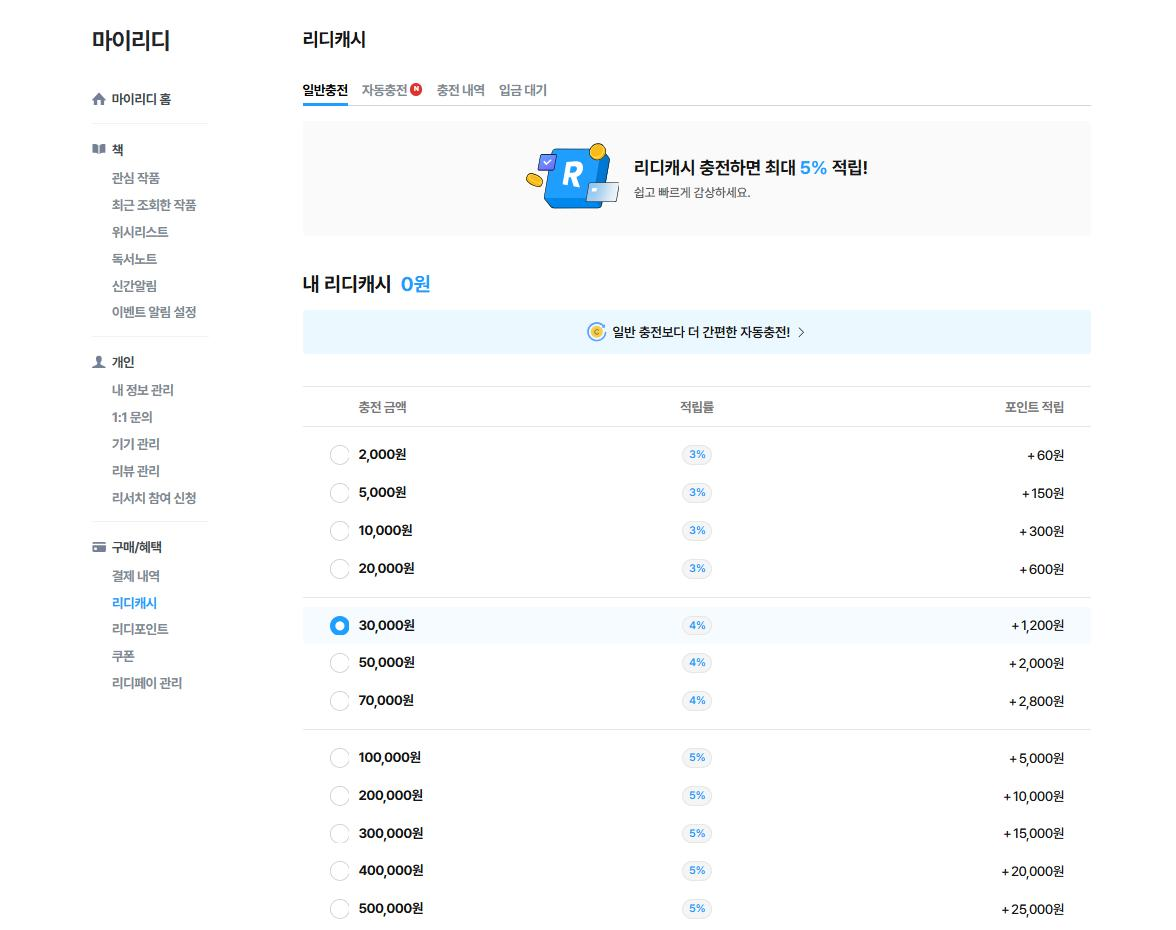button: (81, 80, 188, 115), (104, 296, 203, 326), (100, 192, 201, 217), (105, 487, 206, 510), (296, 70, 353, 110), (360, 74, 426, 107), (100, 163, 171, 189), (431, 73, 492, 103), (100, 221, 180, 243), (99, 247, 169, 270), (107, 376, 180, 398), (499, 73, 552, 102), (109, 559, 168, 585), (110, 401, 164, 428), (110, 587, 164, 614), (103, 276, 172, 297), (107, 431, 171, 453), (104, 460, 168, 481)
checkbox: (324, 779, 429, 812), (325, 894, 432, 926), (327, 740, 426, 773), (324, 855, 429, 886), (315, 555, 423, 583), (311, 516, 422, 543), (312, 440, 419, 468), (320, 649, 418, 679), (325, 820, 430, 848), (321, 687, 422, 716), (318, 611, 419, 639), (311, 480, 423, 505)
popup: (300, 122, 1092, 235), (301, 299, 1097, 358)
